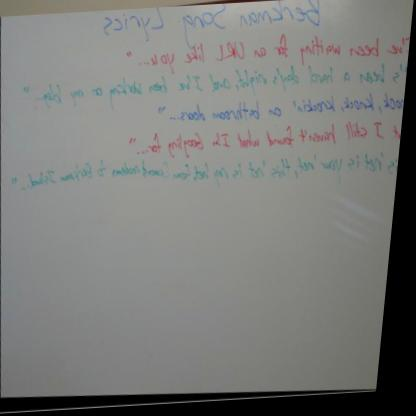Handwritten text: (22, 148, 393, 197), (38, 65, 393, 113), (95, 0, 330, 47), (148, 117, 392, 158), (147, 33, 390, 74), (181, 90, 379, 126)
Whiteboard: (2, 0, 413, 397)
